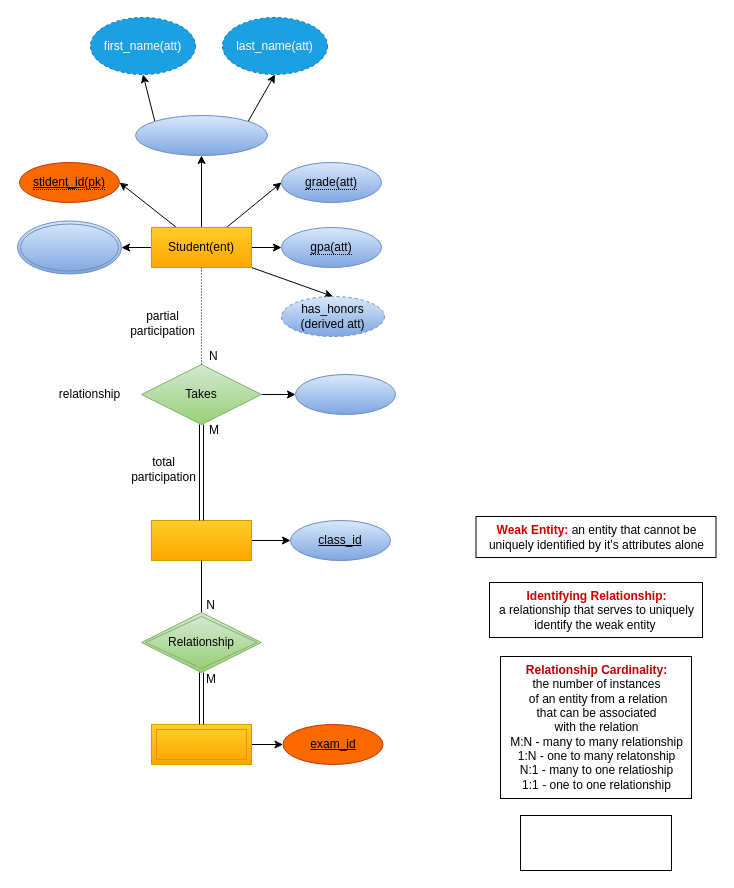
This 734x888 diagram has some shape labels left out. Each missing label, with the centre of its shape:
"Class" belongs at point 201,540.
"Clubs (multivalue att)" belongs at point 69,247.
"Exams" belongs at point 201,744.
"grade" belongs at point 345,394.
"name(composite.att)" belongs at point 201,135.
"Total Participation: all members must participate in relationship" belongs at point 596,842.
